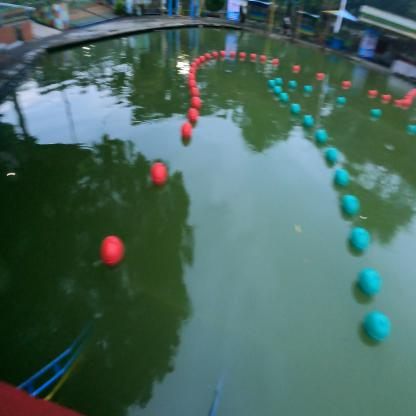green_buoy: (364, 311, 390, 342), (356, 269, 382, 296), (348, 227, 370, 251), (341, 194, 360, 216), (335, 169, 349, 186), (326, 148, 339, 162), (303, 115, 315, 128), (316, 131, 326, 143), (291, 104, 301, 114), (280, 93, 289, 102), (289, 80, 297, 89), (275, 87, 282, 94), (276, 78, 282, 86), (269, 80, 275, 87)
red_buoy: (101, 236, 124, 266), (151, 164, 167, 184), (181, 122, 192, 138), (188, 108, 198, 123), (192, 96, 200, 108), (191, 88, 199, 96), (189, 80, 196, 88), (189, 73, 195, 80), (190, 68, 196, 74)
